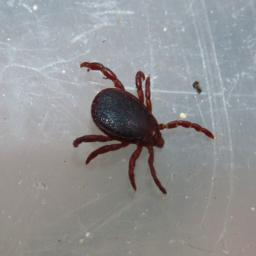Rhipicephalus sanguineus: (71, 61, 214, 195)
